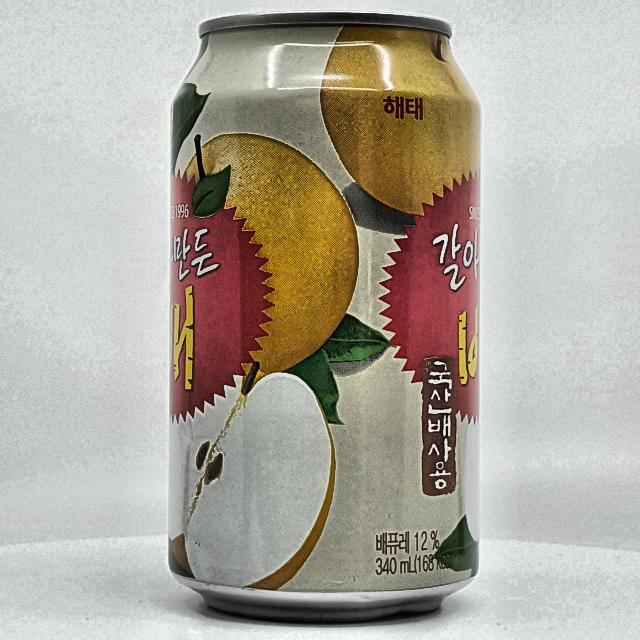galamandeunbae: (162, 9, 490, 614)
